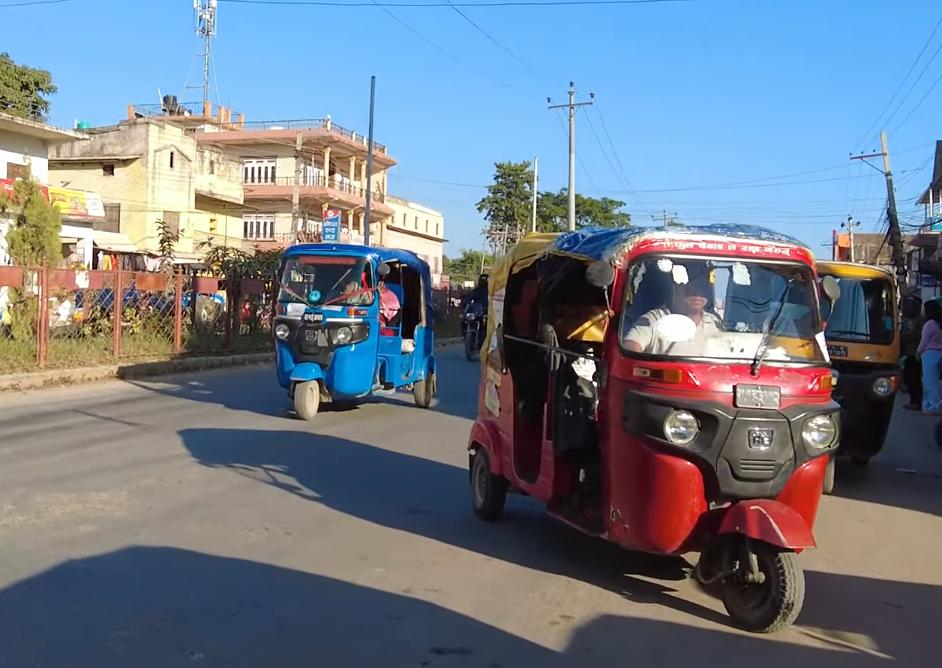auto_rickshaw: (463, 215, 844, 644), (268, 236, 444, 433), (802, 251, 906, 485)
